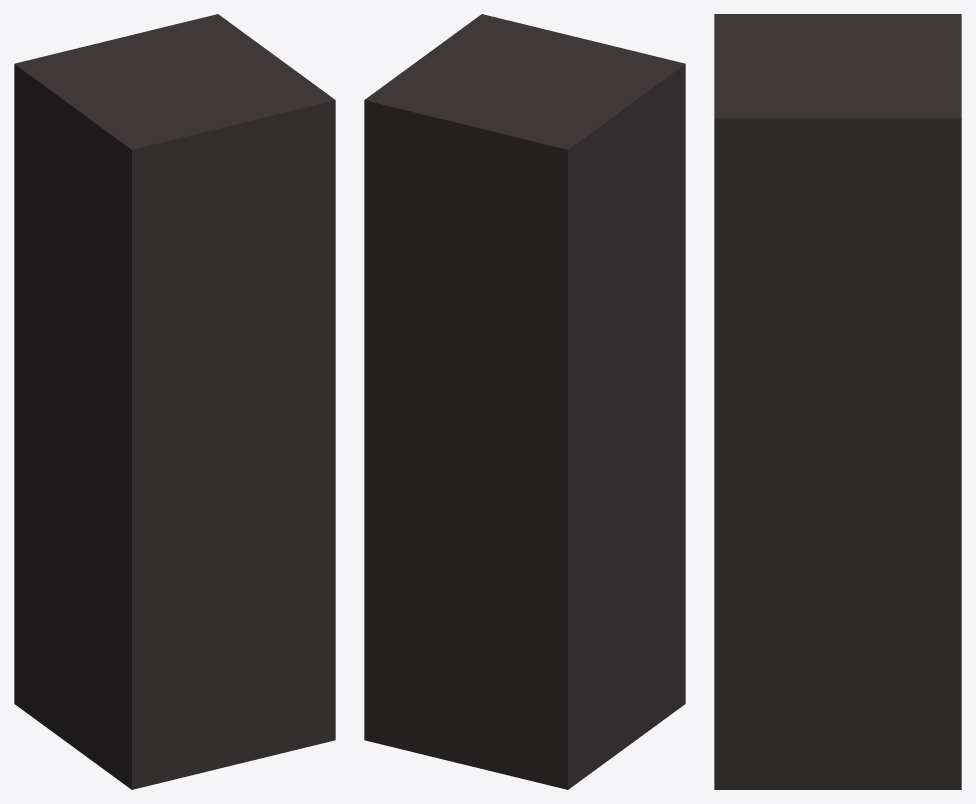
Rendered from toucan__tail.glb.
3 views of the same model, side by side, from view 1: azimuth 30°, elevation 25°; view 2: azimuth 150°, elevation 25°; view 3: azimuth 270°, elevation 25° (orthographic). The views are drawn at different scales.
Visible parts, largest first — view 1: toucan__tail; view 2: toucan__tail; view 3: toucan__tail.
Boxes of the visible parts, left/top/right/bottom form: toucan__tail: left=14, top=14, right=335, bottom=789; toucan__tail: left=364, top=14, right=685, bottom=789; toucan__tail: left=714, top=14, right=961, bottom=789.
Size of the model in its own units: 0.2 by 0.6 by 0.2.
1 material, 1 textured.
